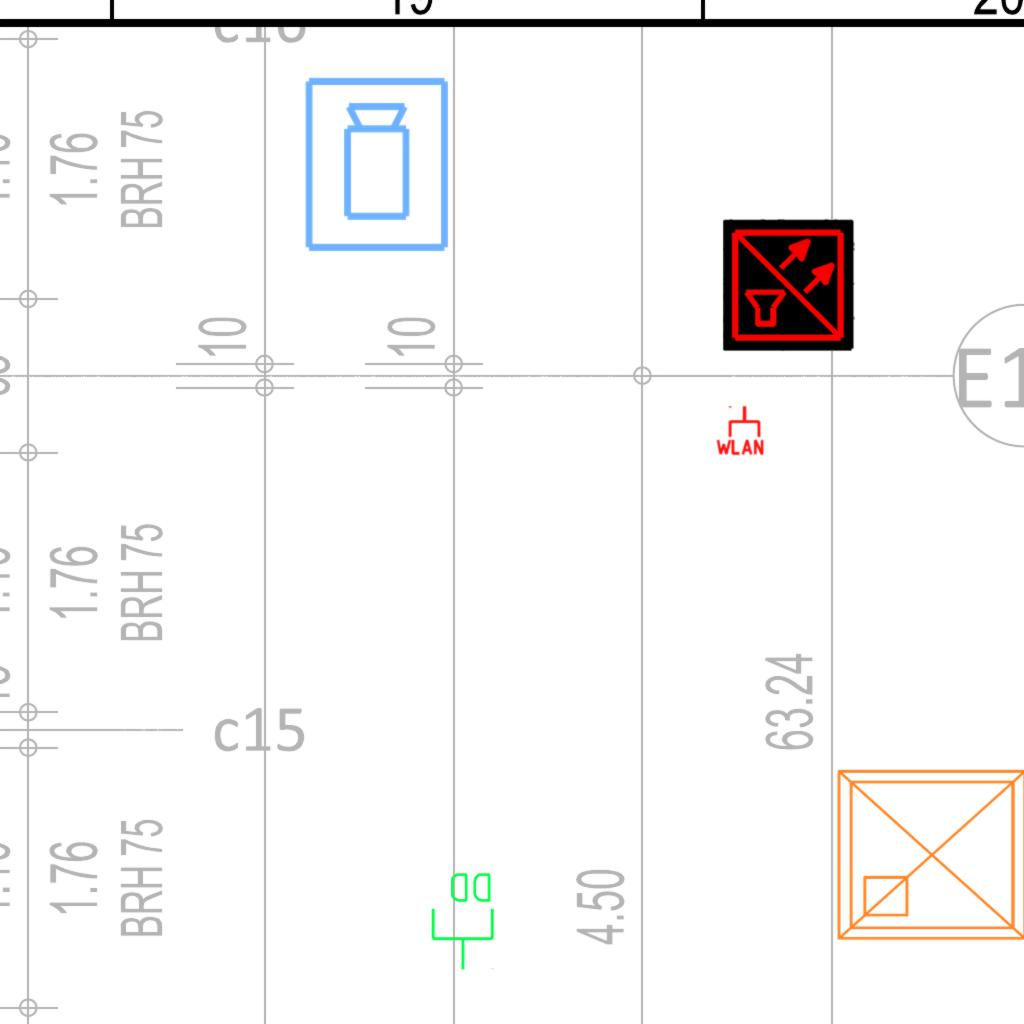Datenanschluss_zweifach: (429, 869, 498, 972)
Einbaudownlights_LED_Konferenzraeume: (823, 747, 1024, 955)
KFO_Kamera_mit_Festobjektiv: (301, 74, 455, 256)
OKW_Multisensormelder_(Kombination_optischer_Rauch-Kahlenmonoxid_Waerme-Melder): (723, 219, 855, 351)
WLAN: (714, 404, 766, 456)
